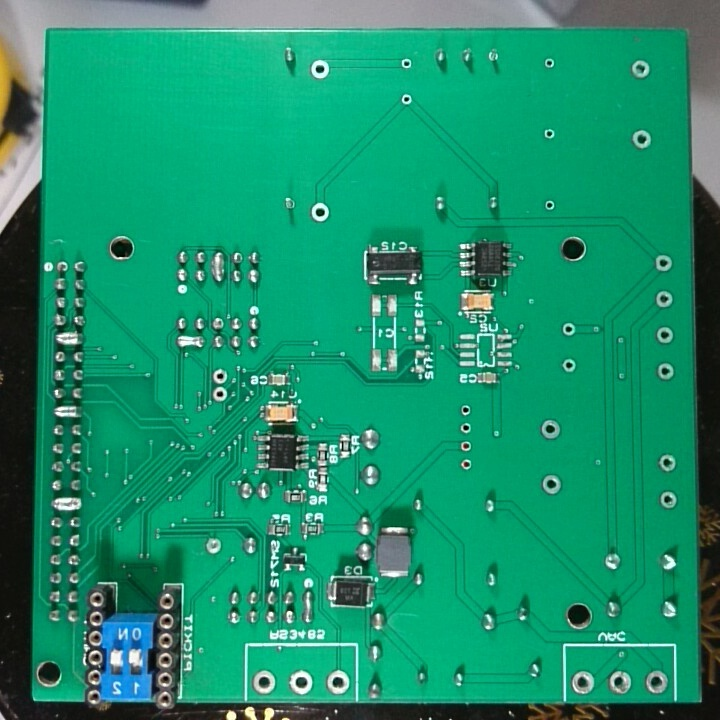F: (248, 666, 280, 696), (324, 664, 353, 697), (287, 666, 316, 698), (607, 665, 634, 698), (569, 667, 599, 696), (643, 666, 670, 698), (307, 198, 333, 228), (600, 549, 630, 575), (536, 416, 564, 443), (656, 487, 682, 514), (627, 127, 655, 152), (627, 56, 653, 82), (307, 57, 333, 82), (539, 472, 565, 496), (653, 322, 677, 347), (656, 452, 679, 477), (654, 287, 677, 312), (652, 249, 674, 275), (653, 358, 676, 382), (201, 535, 224, 558), (280, 192, 301, 215), (209, 366, 232, 386), (485, 44, 504, 68), (559, 318, 579, 338), (209, 313, 228, 333), (457, 437, 475, 456), (560, 357, 579, 375), (542, 54, 558, 75), (457, 454, 475, 472), (457, 400, 474, 419), (398, 55, 416, 72), (398, 89, 414, 108), (541, 126, 558, 141), (54, 259, 71, 274), (210, 385, 224, 403), (458, 420, 473, 436), (542, 198, 558, 212)
P: (54, 329, 87, 348), (50, 495, 84, 513), (301, 587, 316, 626), (174, 333, 205, 351), (53, 402, 84, 419), (210, 246, 223, 286)
